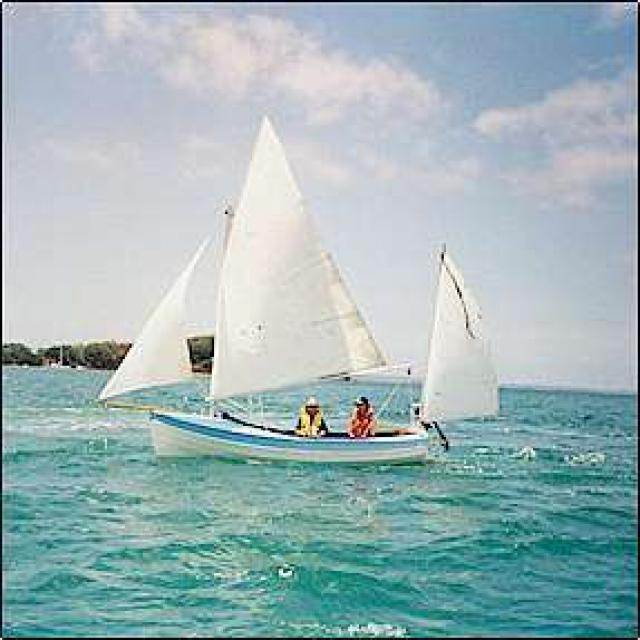Ship: (103, 115, 505, 466)
